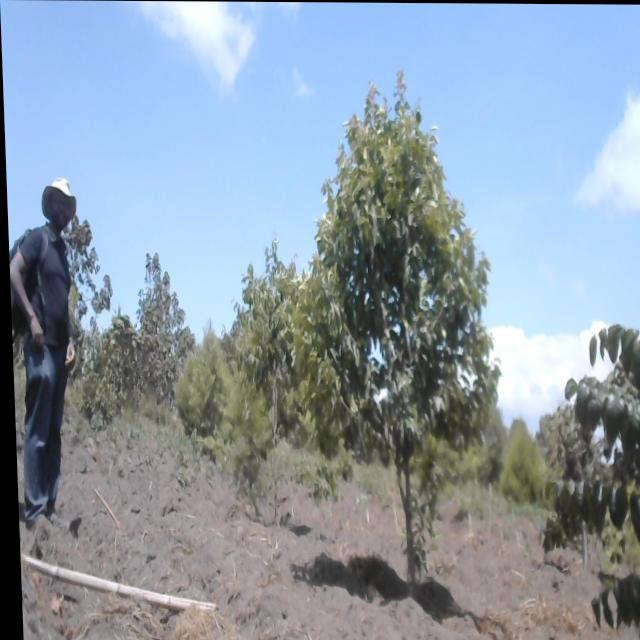Hass Avocado: (281, 76, 510, 623)
Polyscias fulva: (530, 294, 640, 636)
